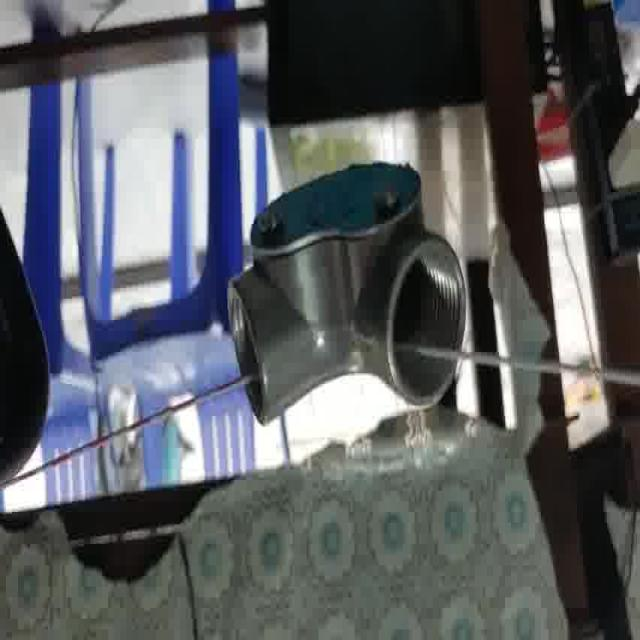Dry: (228, 161, 470, 419)
